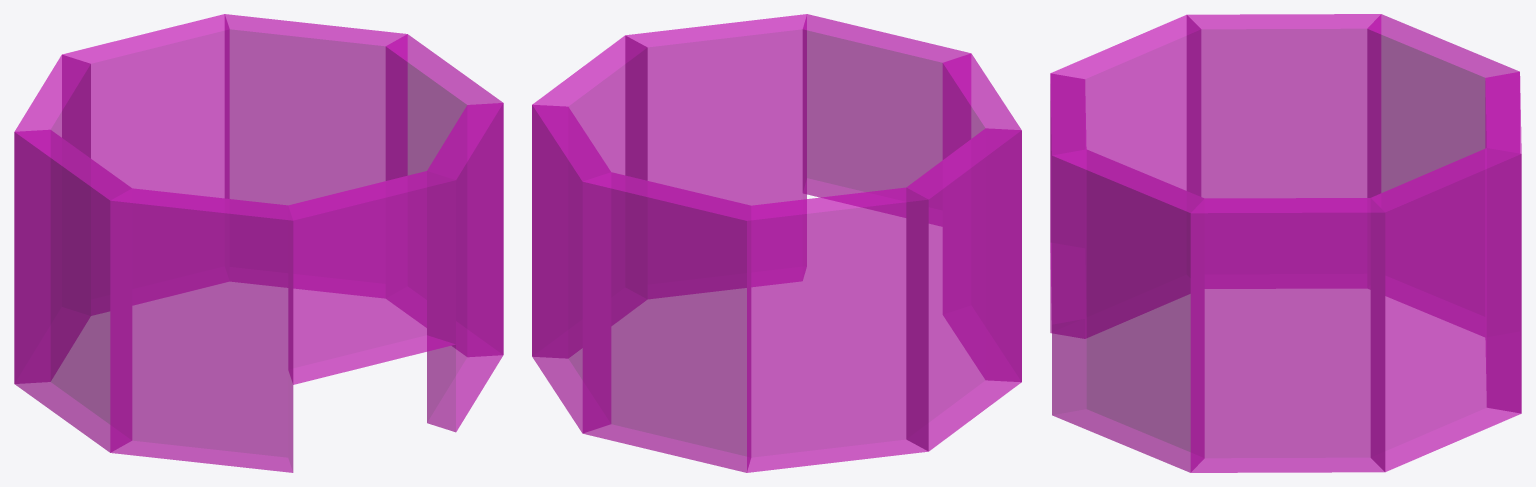
The model's file is SM_Bld_Tower_Roof_Base_01_Collision.fbx.
3 views of the same model, side by side, from view 1: azimuth 30°, elevation 25°; view 2: azimuth 150°, elevation 25°; view 3: azimuth 270°, elevation 25° (orthographic). The views are drawn at different scales.
Visible parts, largest first — view 1: SM_Bld_Tower_Roof_Base_01_Collision; view 2: SM_Bld_Tower_Roof_Base_01_Collision; view 3: SM_Bld_Tower_Roof_Base_01_Collision.
Boxes of the visible parts, left/top/right/bottom form: SM_Bld_Tower_Roof_Base_01_Collision: left=14, top=14, right=503, bottom=472; SM_Bld_Tower_Roof_Base_01_Collision: left=532, top=14, right=1021, bottom=472; SM_Bld_Tower_Roof_Base_01_Collision: left=1050, top=14, right=1521, bottom=472.
Size of the model in its own units: 580 by 353 by 580.
